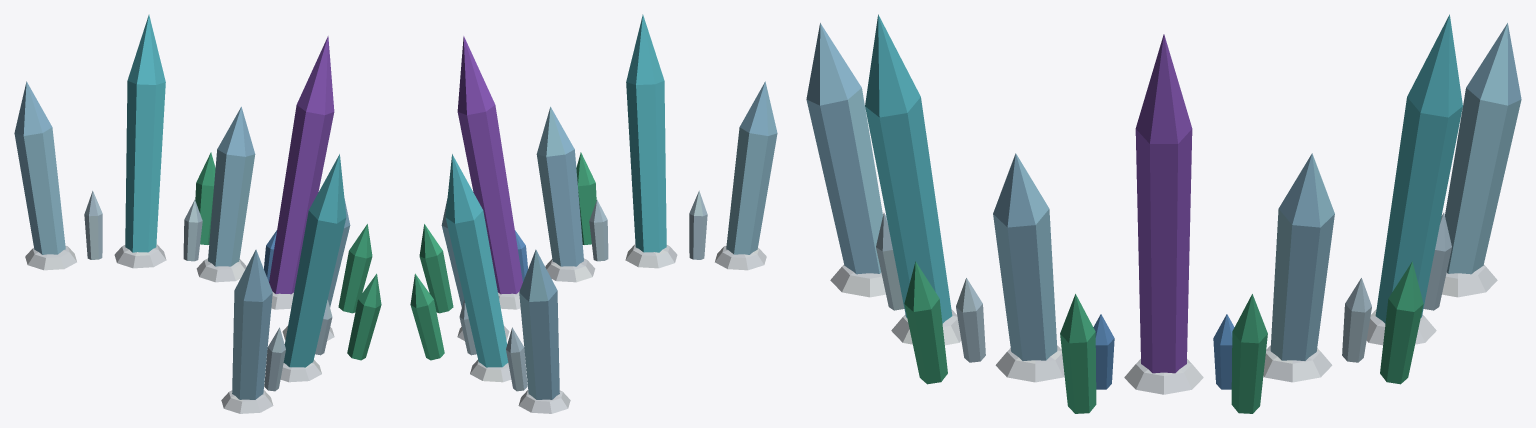
Rendered from Decor_IcePalace_Halo.fbx.
3 views of the same model, side by side, from view 1: azimuth 30°, elevation 25°; view 2: azimuth 150°, elevation 25°; view 3: azimuth 270°, elevation 25° (orthographic). The views are drawn at different scales.
Parts seen in each view (by area): view 1: Halo_Body; view 2: Halo_Body; view 3: Halo_Body.
Part boxes in pixels (x1,y1,x2,y2): Halo_Body: [14, 14, 381, 413]; Halo_Body: [410, 14, 777, 413]; Halo_Body: [806, 14, 1521, 413].
Bounding box in the file's own units: 15.92 × 18 × 30.6.
